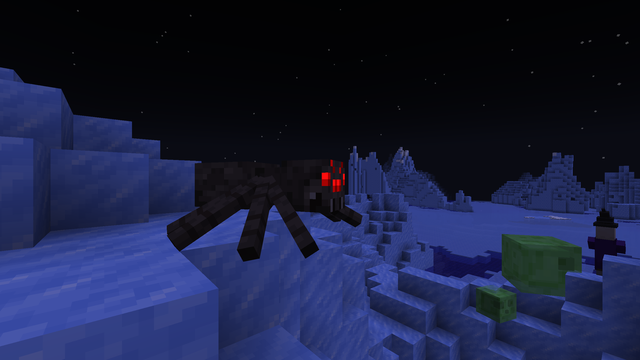araignees: (194, 141, 367, 263)
slimes: (501, 231, 573, 301), (477, 282, 514, 323)
sorcieres: (593, 222, 617, 276)
